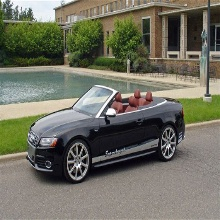no damage: (26, 83, 187, 183)
